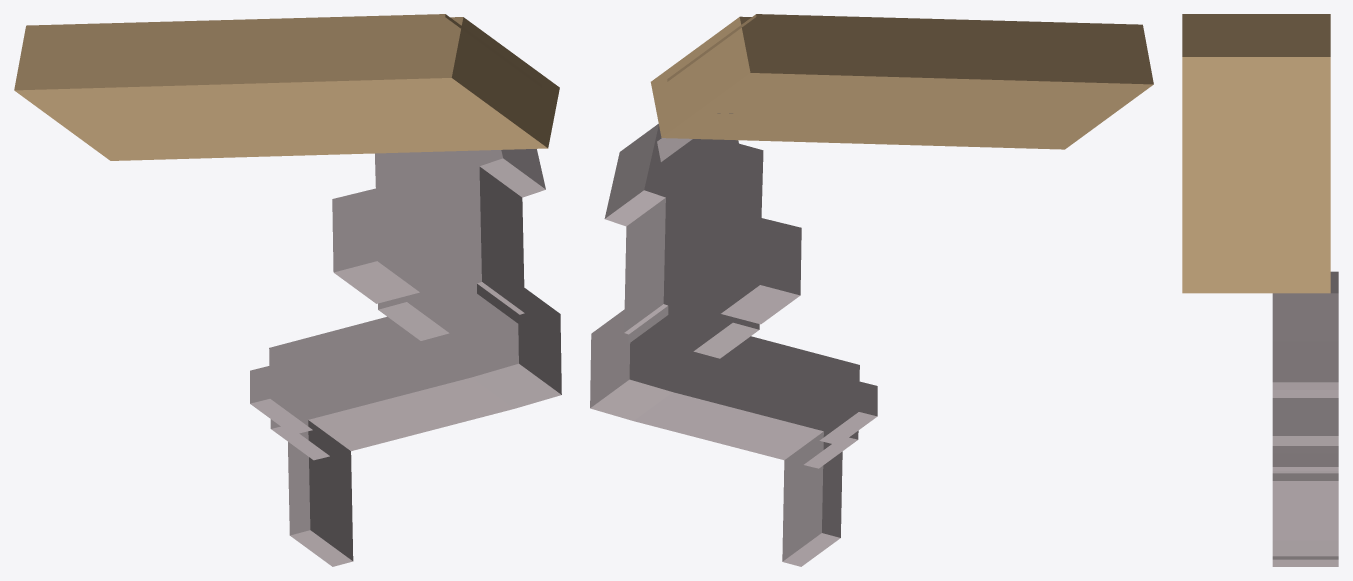
3 views of the same model, side by side, from view 1: azimuth 30°, elevation 25°; view 2: azimuth 150°, elevation 25°; view 3: azimuth 270°, elevation 25° (orthographic). The views are drawn at different scales.
Parts seen in each view (by area): view 1: 0_3_2_0_2_2_2; view 2: 0_3_2_0_2_2_2; view 3: 0_3_2_0_2_2_2.
Part boxes in pixels (x1,y1,x2,y2): 0_3_2_0_2_2_2: (14, 14, 561, 566); 0_3_2_0_2_2_2: (590, 14, 1153, 566); 0_3_2_0_2_2_2: (1182, 14, 1338, 566).
Bounding box in the file's own units: 82.38 × 89.44 × 28.44.
